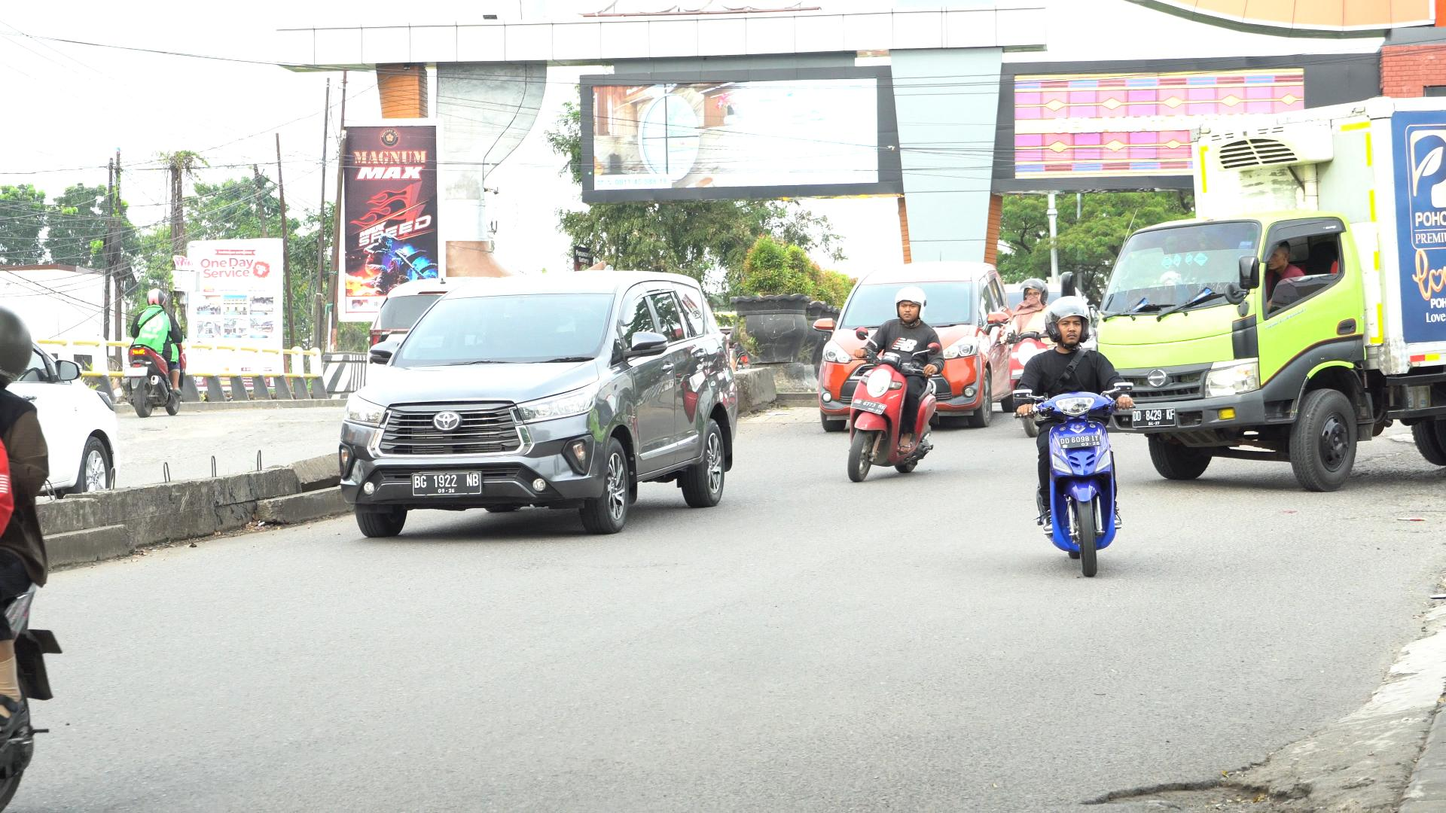number-plate: (850, 398, 886, 416), (1061, 435, 1102, 448)
